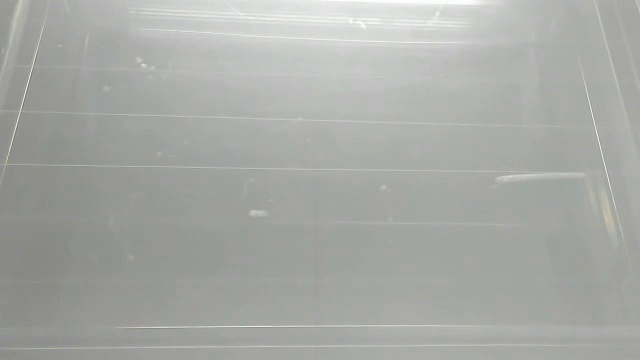alpha: (492, 169, 589, 183), (246, 205, 277, 224)
